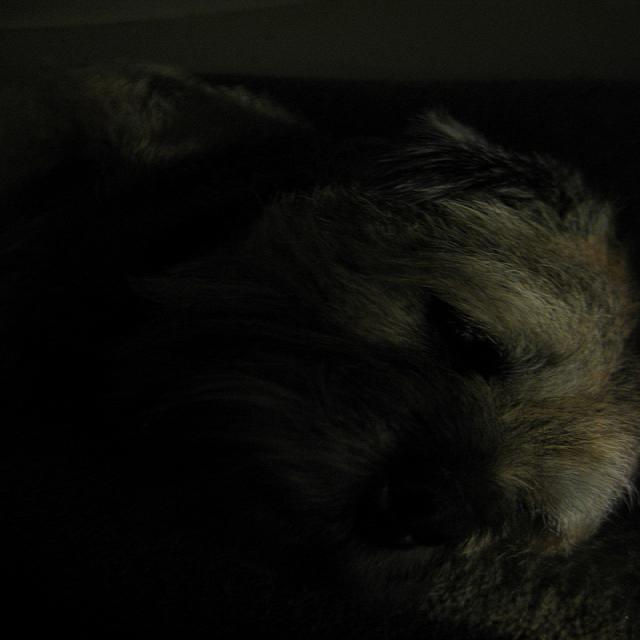Dog: (33, 97, 640, 640)
